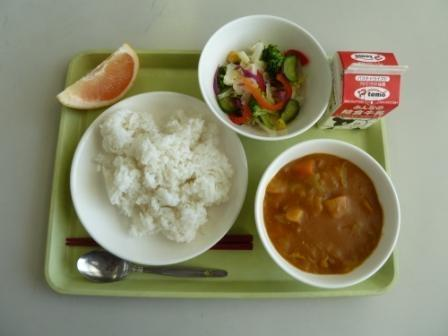Citrus: (51, 40, 147, 111)
Curry: (259, 143, 391, 285)
Milk: (323, 41, 407, 129)
Rice: (94, 114, 227, 241)
Salad: (200, 38, 319, 129)
